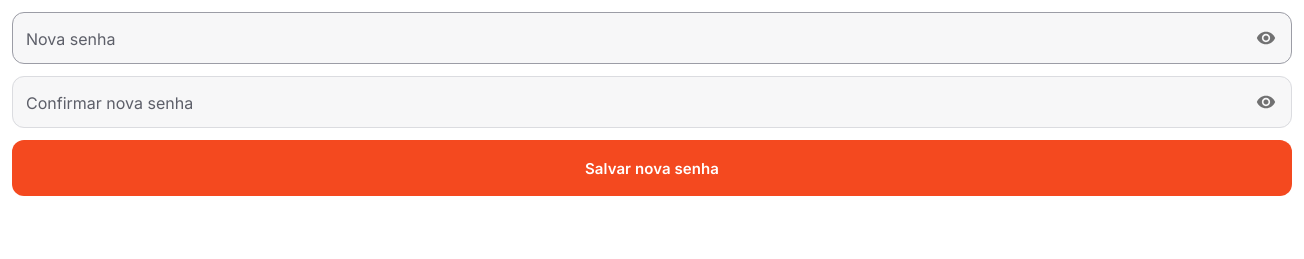
ResetPasswordForm › requires both password fields
This screenshot has width=1304, height=259.
Click the button "Salvar nova senha" at x=652, y=168, box [12,140,1292,196]
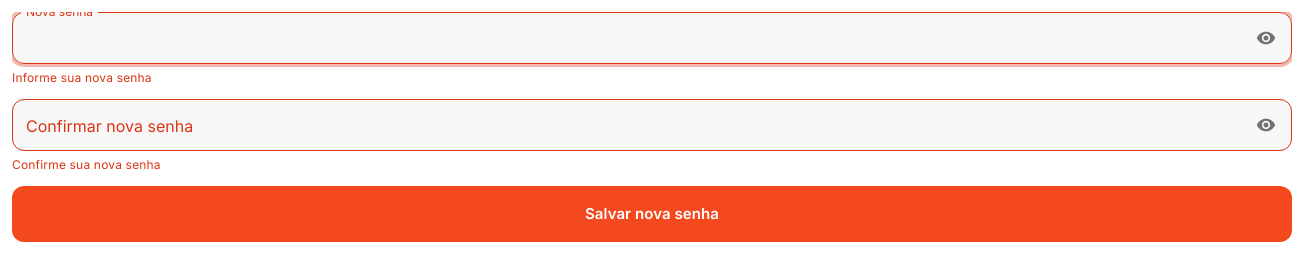
expect the text "Informe sua nova senha" is shown: met, box [12,70,152,85]
expect the text "Confirme sua nova senha" is shown: met, box [12,157,161,172]
